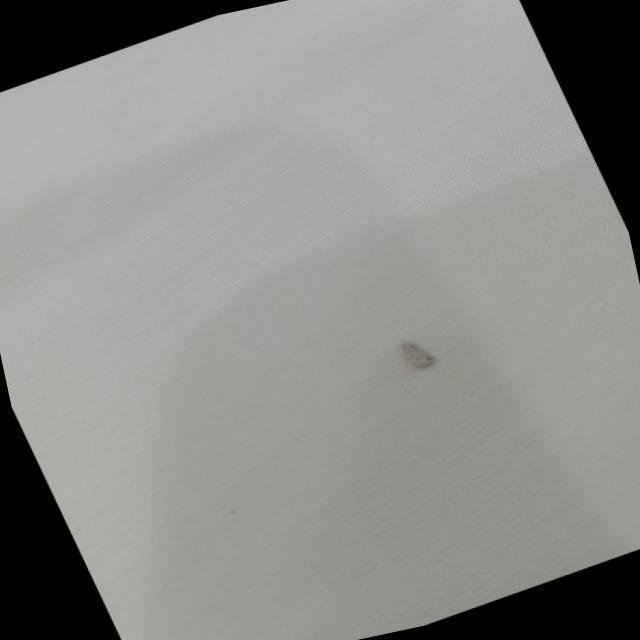stain: (374, 316, 462, 398)
